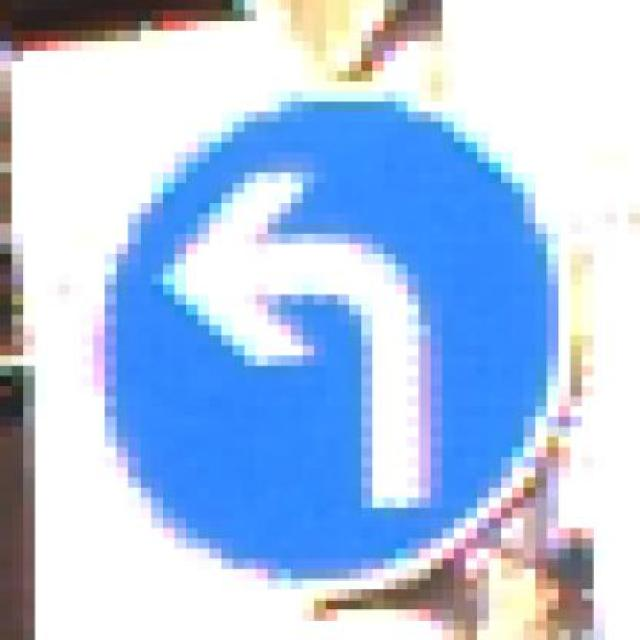Turn left ahead: (93, 91, 582, 589)
